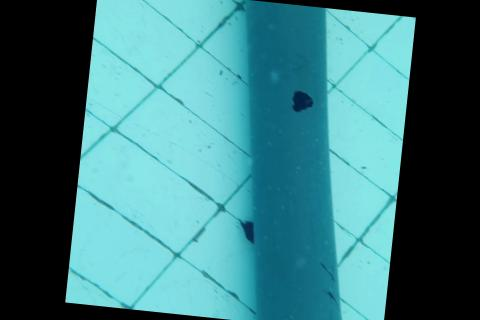kebocoran: (289, 89, 315, 114)
keretakan: (314, 258, 343, 320)
